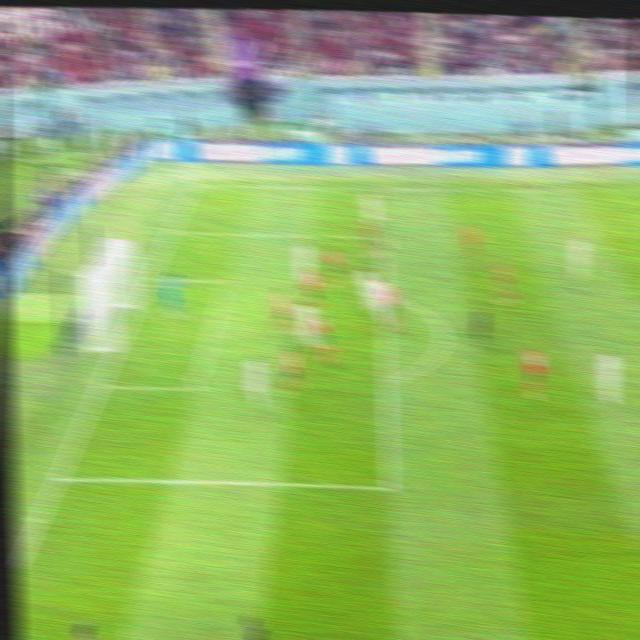bigarea_bottom_inner: (380, 475, 401, 495)
bigarea_bottom_outter: (49, 468, 68, 487)
bigarea_top_inner: (378, 236, 392, 248), (373, 233, 387, 243)
bigarea_top_outter: (165, 225, 181, 238)
bottom_arc_area_intersection: (381, 372, 397, 388)
corner: (187, 183, 201, 189)
smallarea_bottom_inner: (185, 375, 207, 397)
smallarea_bottom_outter: (90, 375, 112, 395)
smallarea_top_inner: (219, 275, 234, 289)
smallarea_top_outter: (141, 272, 158, 287)
